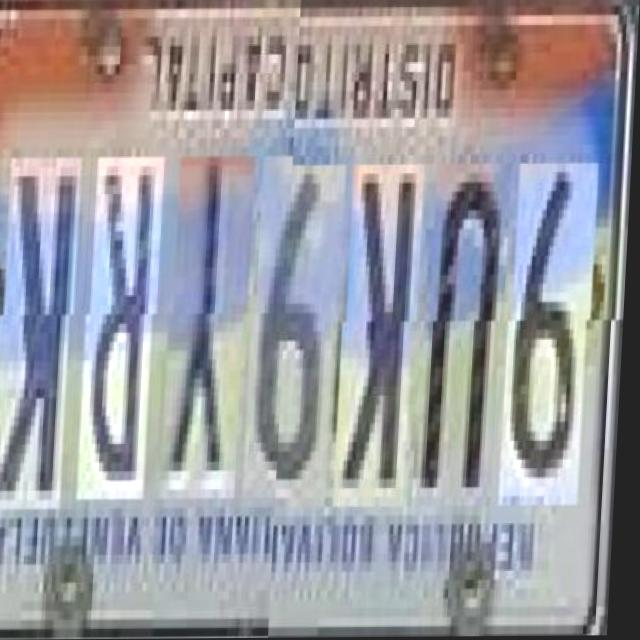9: (247, 156, 345, 499), (504, 155, 597, 497)
k: (338, 156, 424, 498), (0, 157, 81, 510)
r: (81, 158, 162, 500)
u: (421, 155, 510, 498)
y: (165, 157, 253, 499)
